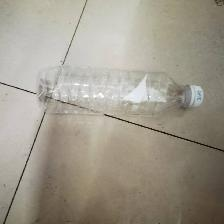bottle: (13, 22, 214, 189)
